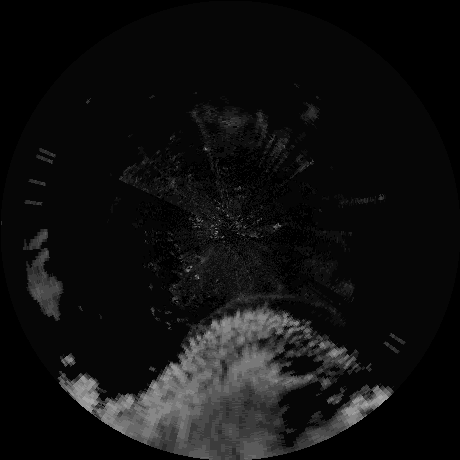frontgust: (199, 293, 300, 319)
